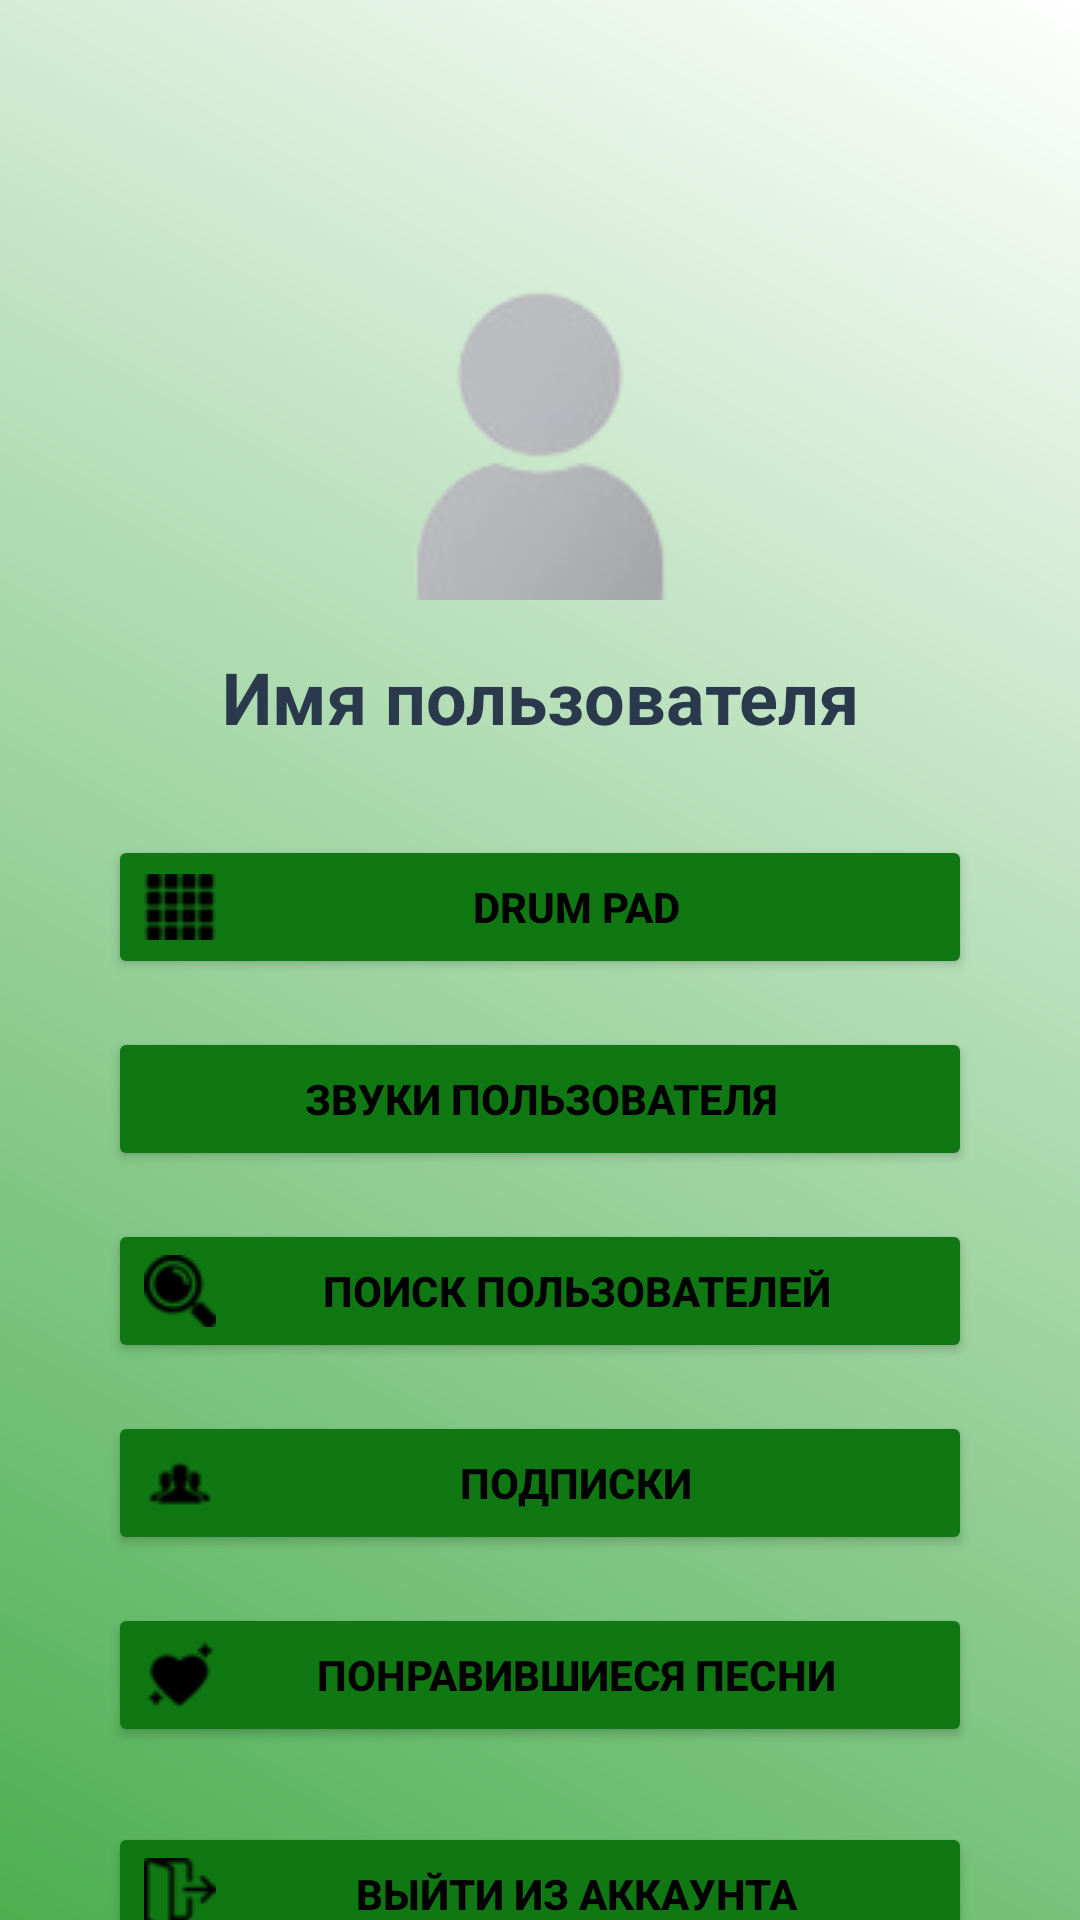

Icons on this 1080w x 1920h Android screen, each with the point to tap as [x,y]:
User Avatar: [540,447]
